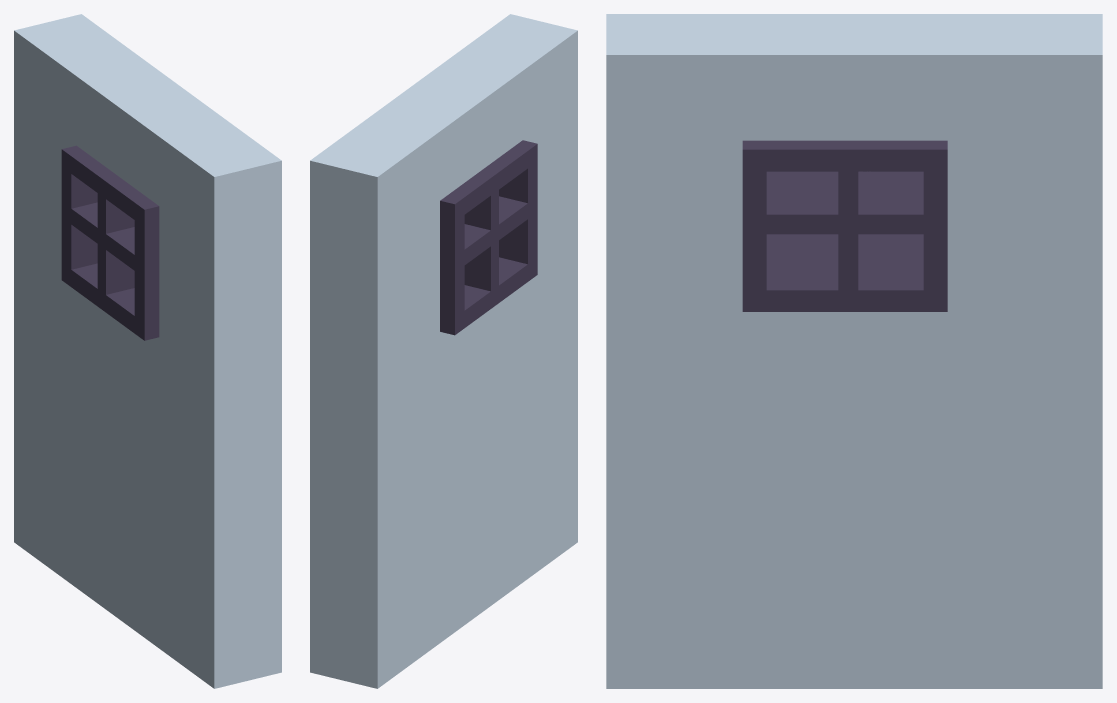
Rendered from LongWall2.fbx.
3 views of the same model, side by side, from view 1: azimuth 30°, elevation 25°; view 2: azimuth 150°, elevation 25°; view 3: azimuth 270°, elevation 25° (orthographic). The views are drawn at different scales.
Parts seen in each view (by area): view 1: WallLong2; view 2: WallLong2; view 3: WallLong2.
Boxes of the visible parts, x1,y1,x2,y2 form: WallLong2: (14, 14, 281, 688); WallLong2: (310, 14, 577, 688); WallLong2: (606, 14, 1102, 688).
Size of the model in its own units: 33.01 by 166 by 118.
